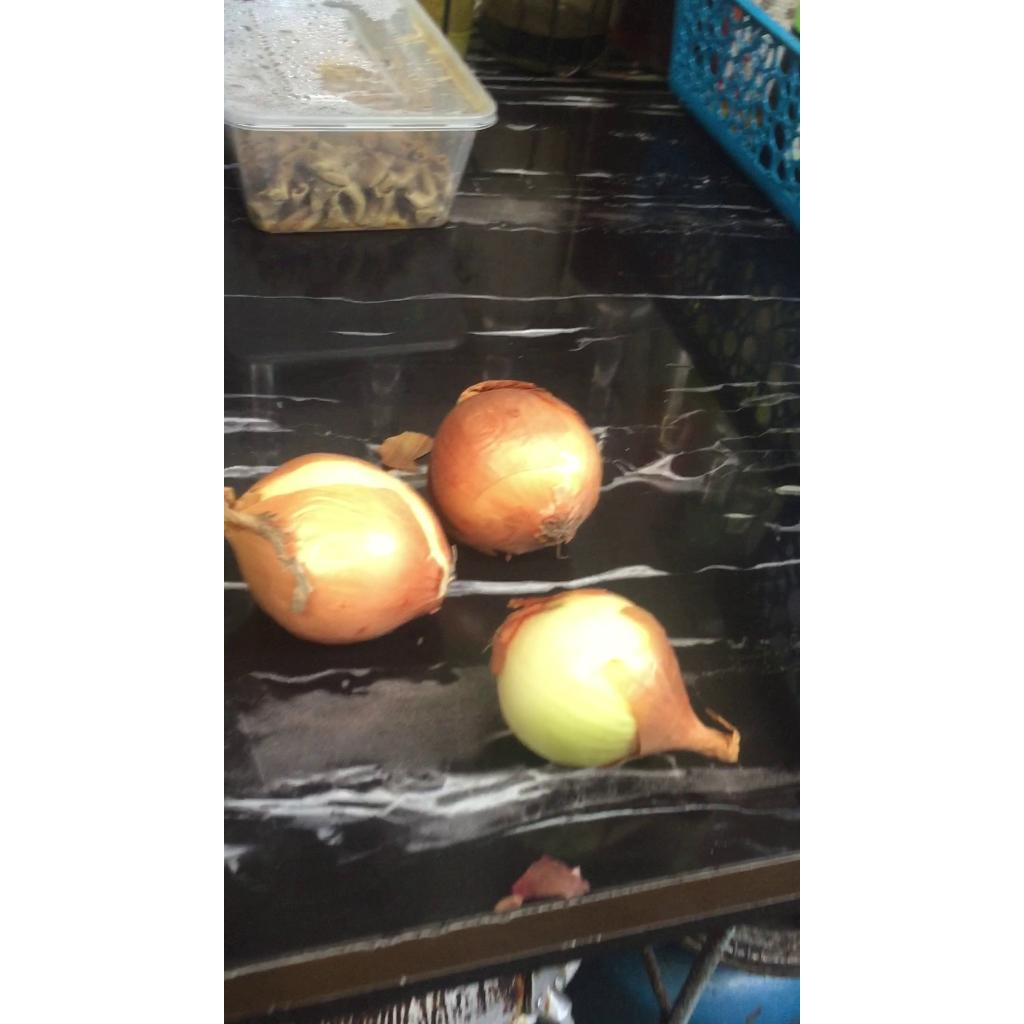Onion: (490, 590, 740, 767), (224, 454, 453, 644), (428, 381, 602, 555)
